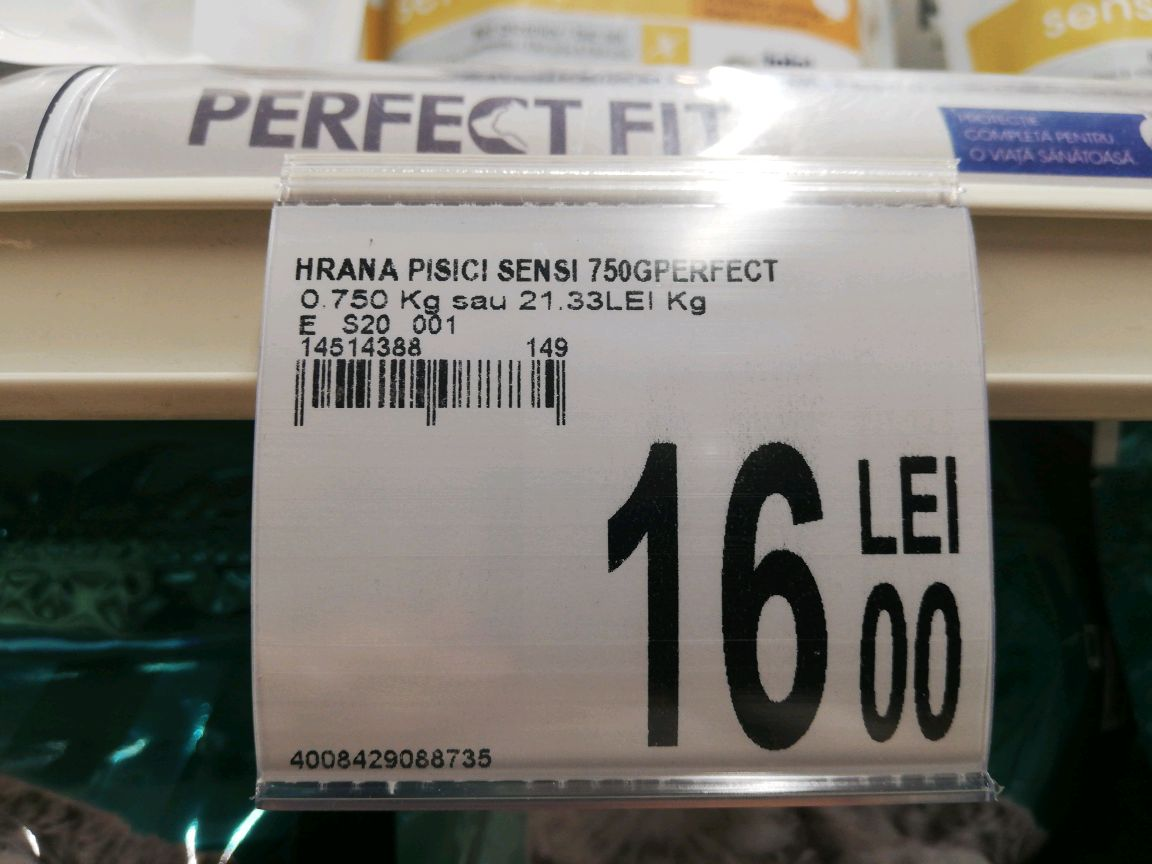price_bani: (847, 580, 971, 766)
price_lei: (592, 427, 835, 765)
price_tag: (250, 192, 1003, 806)
product_id: (283, 742, 511, 783)
product_name: (277, 251, 796, 288)
